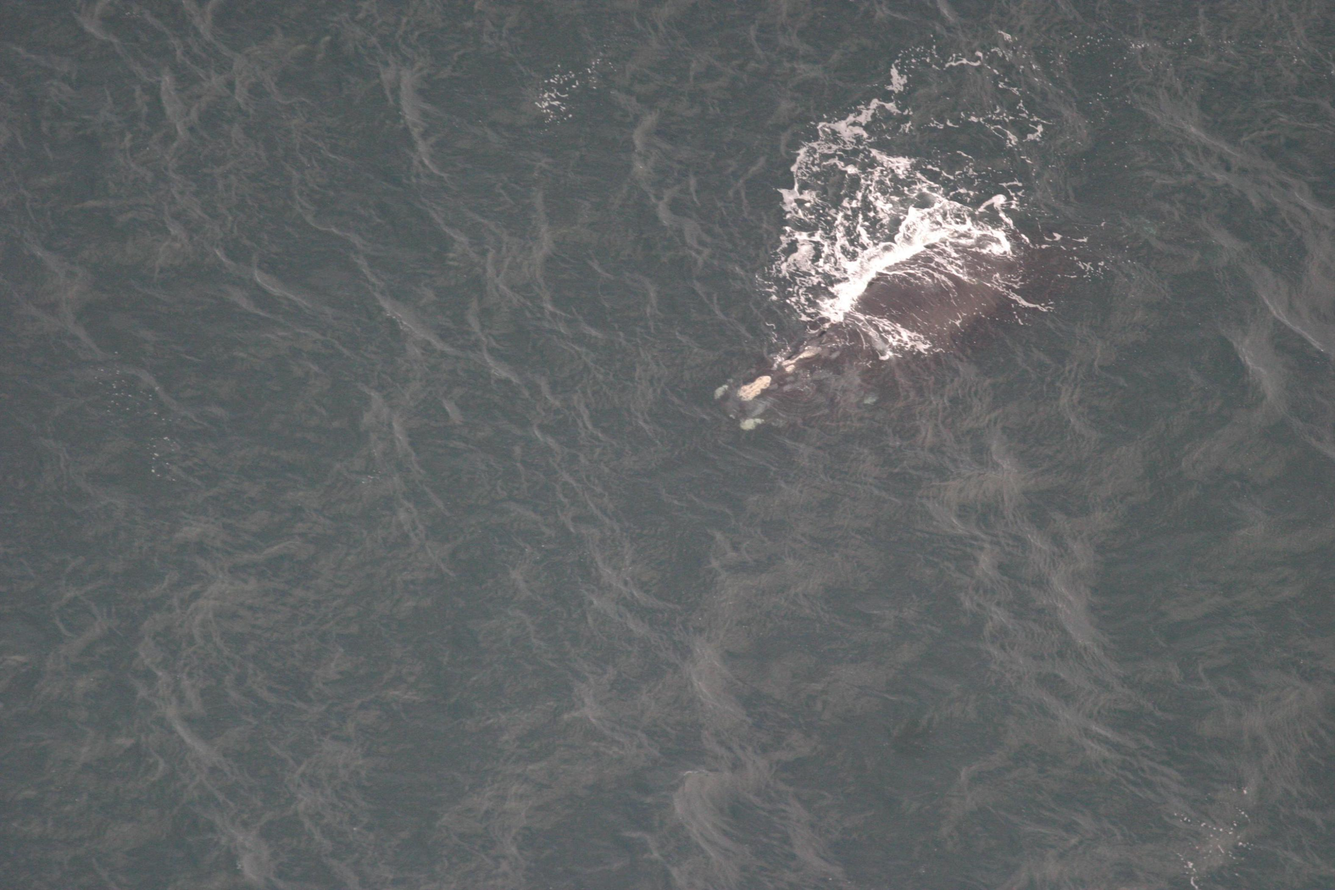whale: (706, 170, 1102, 448)
